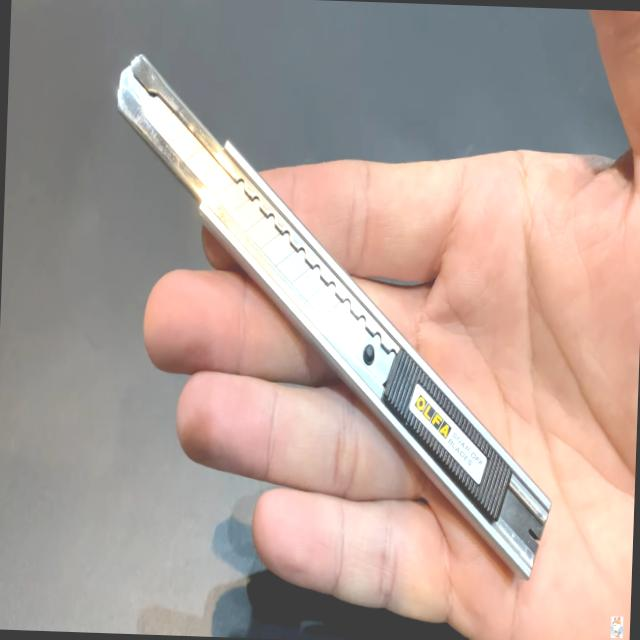cutter: (43, 16, 639, 605)
